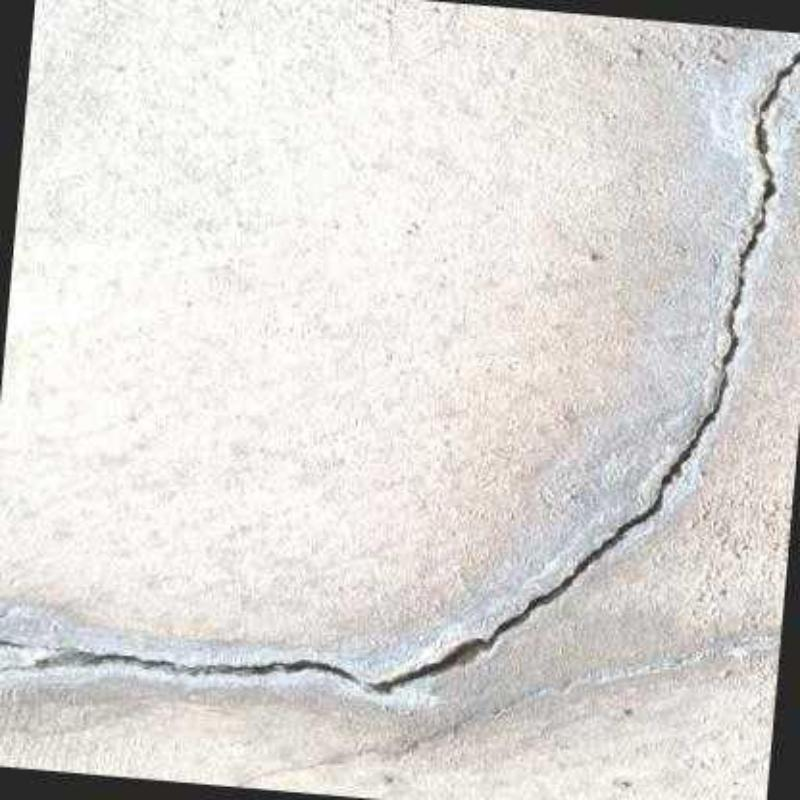pothole: (0, 33, 800, 702)
